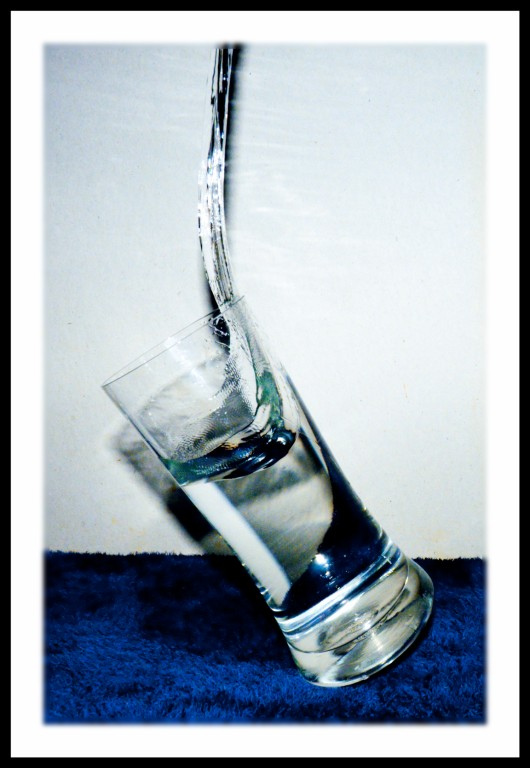glass of water: (76, 214, 459, 700)
